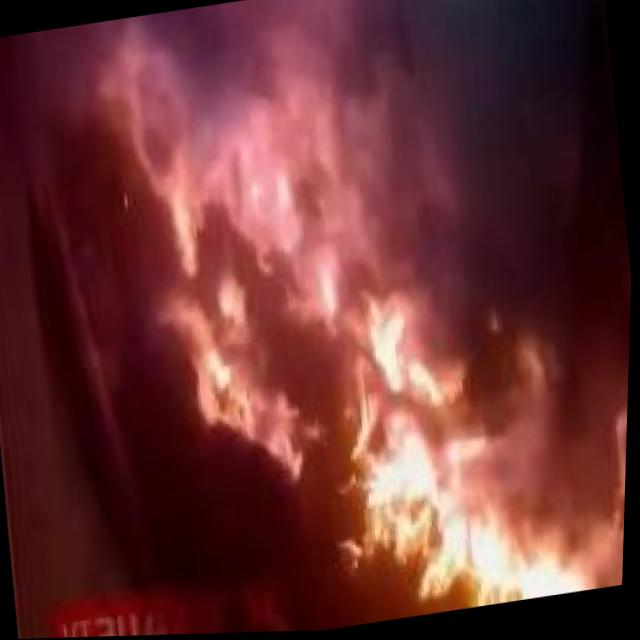fire: (305, 250, 634, 630), (80, 0, 416, 342), (131, 258, 339, 517)
